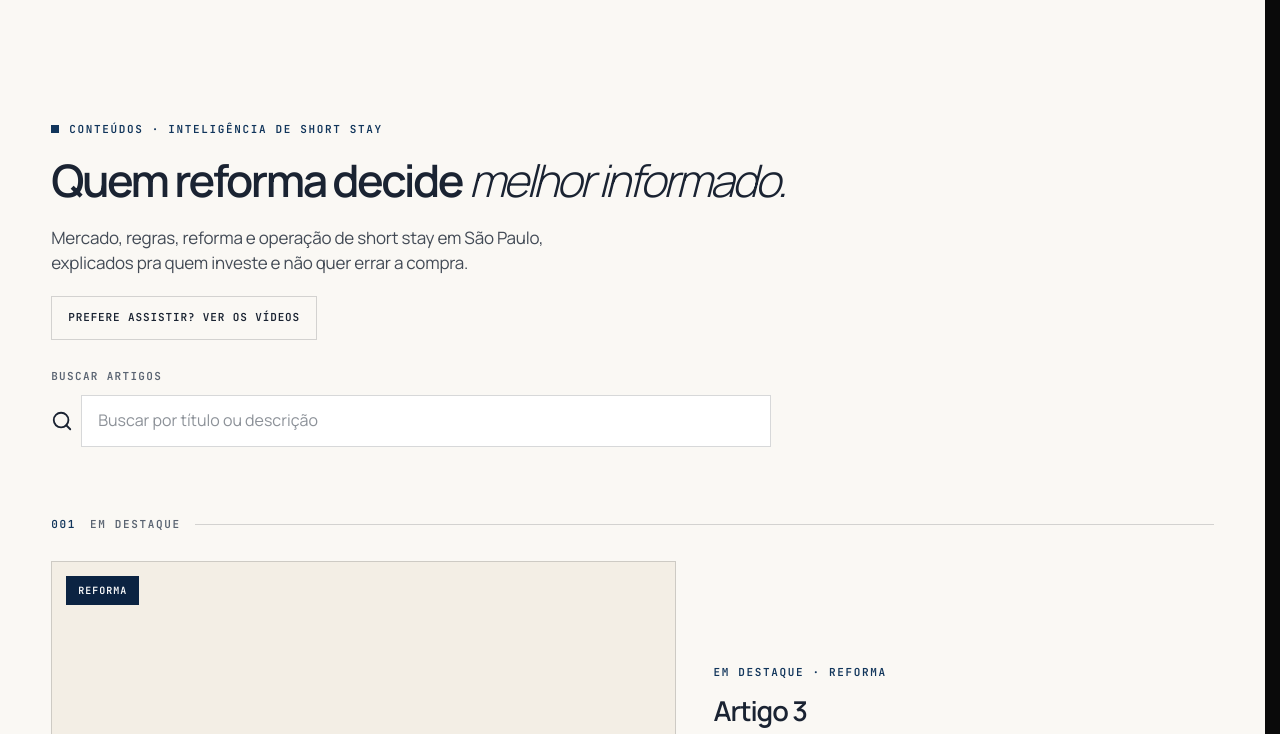
Test: no navegador › busca carrega o índice completo uma vez e acha artigo de outra página
Expected: the link "Artigo 27" is not shown
In the search field: (426, 421) [81, 395, 771, 447], type "marcenaria"
(page scrolled)
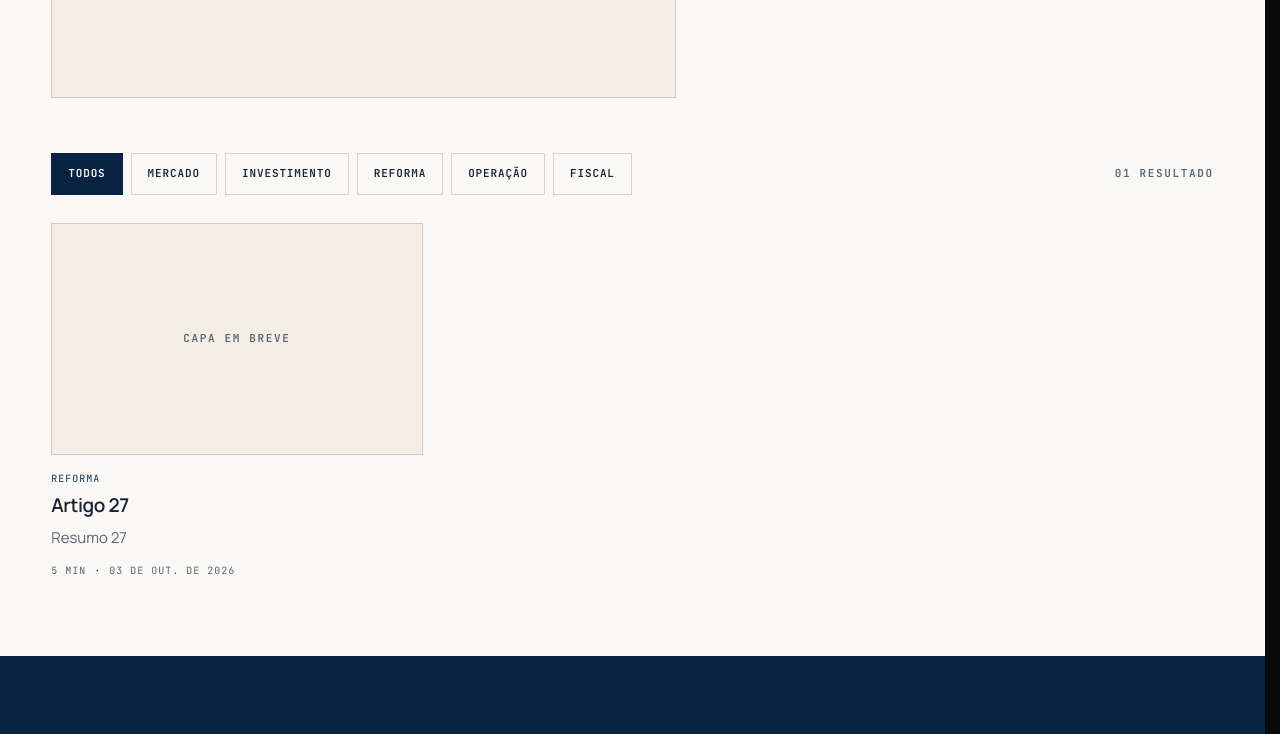
Now the link to "/conteudos/artigo-27" is shown, box [51, 222, 423, 578]
